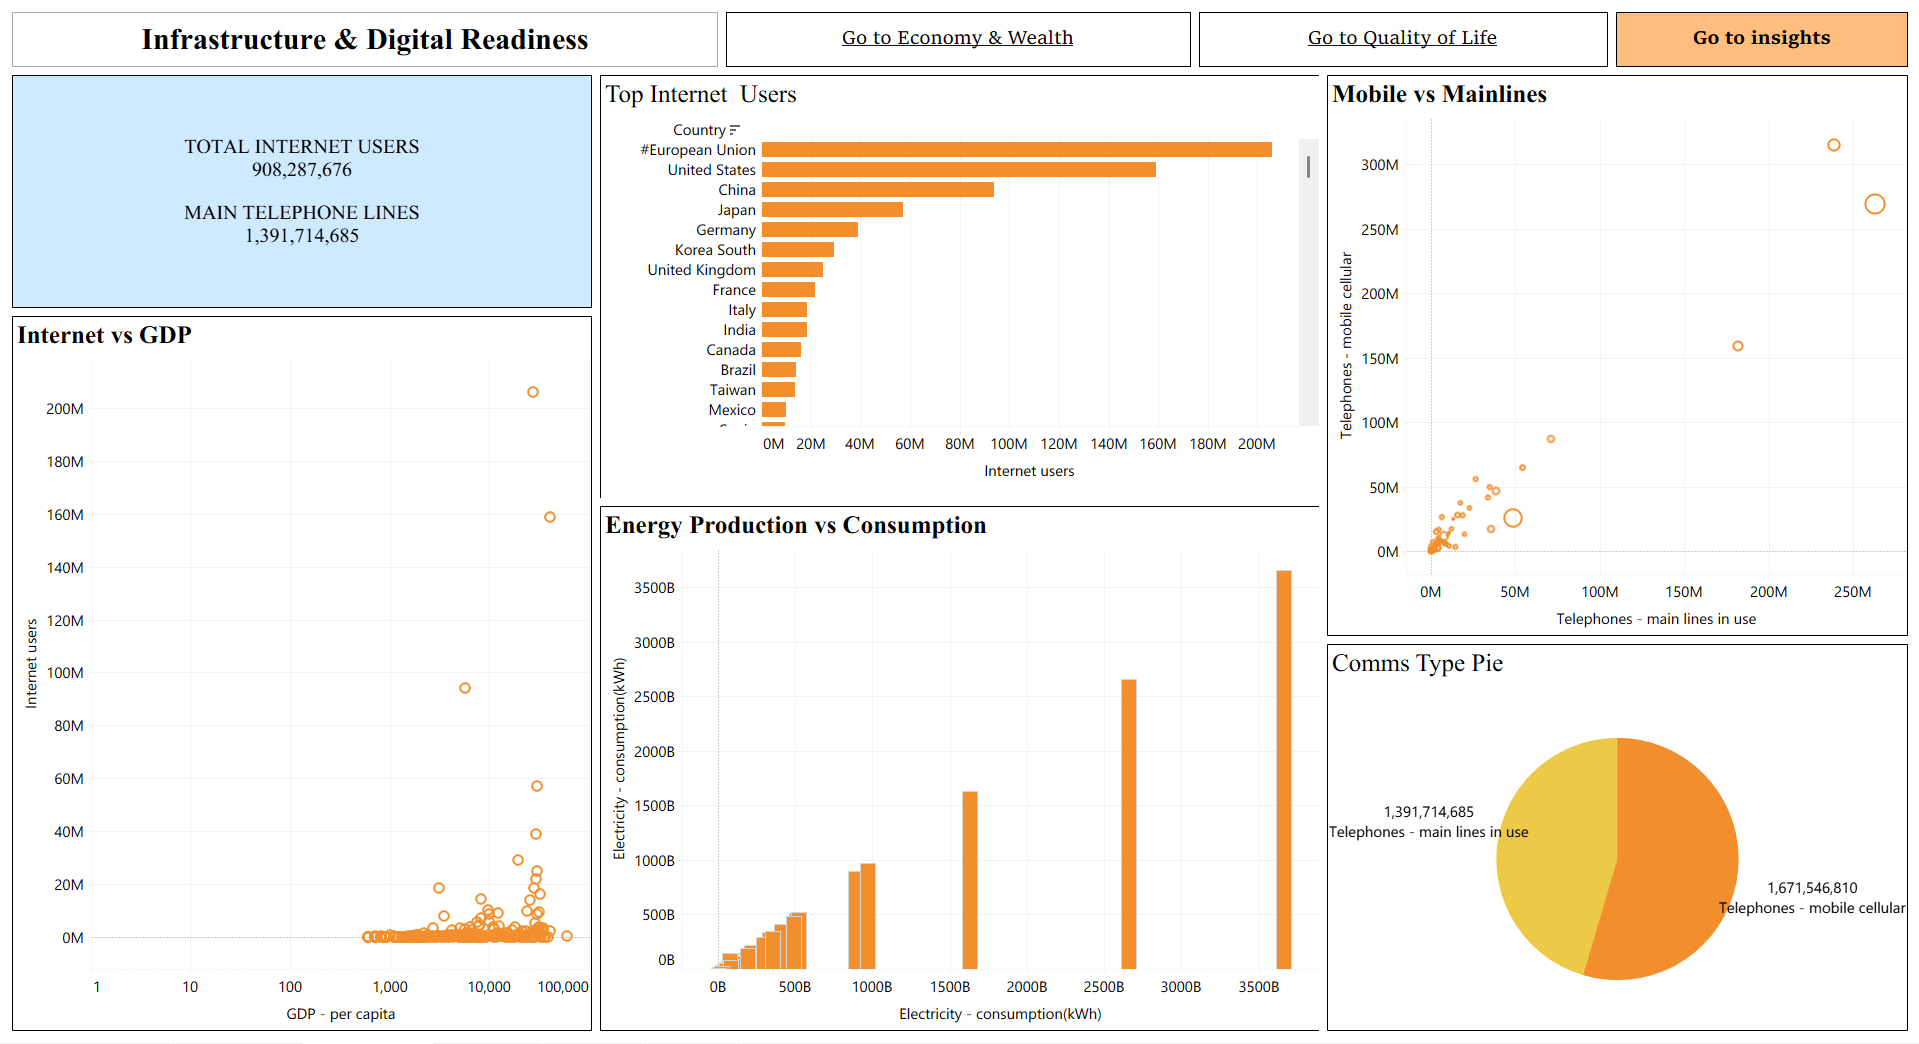

The page's visual inventory and layout, read from the dashboard file:
{"tool":"tableau","page":{"name":"infrastructure","canvas":[1000,1000],"units":"permille","ordinal":2},"visuals":[{"type":"title","box":[4.8,9.4,371.1,59.9]},{"type":"dashboard-object","box":[376,9.4,246.2,59.9]},{"type":"dashboard-object","box":[622.2,9.4,216.9,59.9]},{"type":"dashboard-object","box":[839.1,9.4,156,59.9]},{"type":"worksheet","title":"Sheet 16","mark":"Automatic","box":[4.8,69.3,305.7,230.2]},{"type":"worksheet","title":"Sheet 18","mark":"Automatic","rows":["Country String"],"cols":["Internet users"],"box":[310.5,69.3,378.5,412.3]},{"type":"worksheet","title":"Sheet 19","mark":"Automatic","rows":["Telephones - mobile cellular"],"cols":["Telephones - main lines in use"],"box":[689,69.3,306.2,543.6]},{"type":"worksheet","title":"Sheet 17","mark":"Automatic","rows":["Internet users"],"cols":["GDP - per capita"],"box":[4.8,299.5,305.7,691.1]},{"type":"worksheet","title":"Sheet 20","mark":"Bar","rows":["Electricity - consumption(kWh)"],"cols":["Electricity - consumption(kWh)"],"box":[310.5,481.6,378.5,509]},{"type":"worksheet","title":"Sheet 21","mark":"Pie","box":[689,612.9,306.2,377.7]}]}

Visuals, with their boxes on the dashboard's canvas, which has no fixed pixel size, in thousandths of its width and height (x1, y1, x2, y2). These are canvas units, not pixel positions in the 1919x1044 screenshot, which may show the page scaled, cropped or inside an application window:
title: (5, 9, 376, 69)
dashboard-object: (376, 9, 622, 69)
dashboard-object: (622, 9, 839, 69)
dashboard-object: (839, 9, 995, 69)
"Sheet 16" worksheet: (5, 69, 310, 300)
"Sheet 18" worksheet: (310, 69, 689, 482)
"Sheet 19" worksheet: (689, 69, 995, 613)
"Sheet 17" worksheet: (5, 300, 310, 991)
"Sheet 20" worksheet (Bar marks): (310, 482, 689, 991)
"Sheet 21" worksheet (Pie marks): (689, 613, 995, 991)
